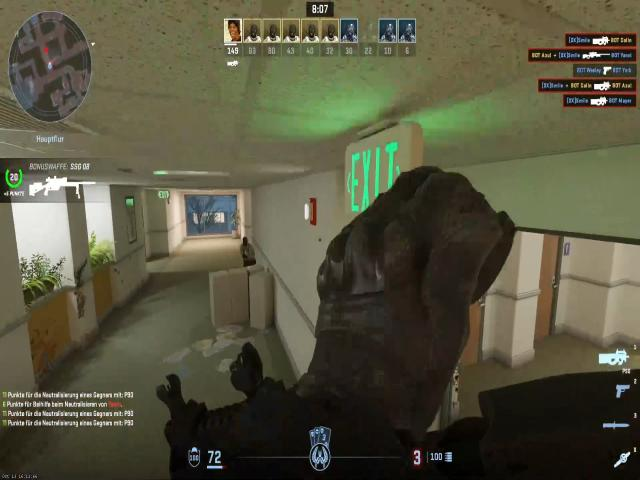T: (240, 232, 258, 263)
T-Head: (242, 233, 251, 249)
